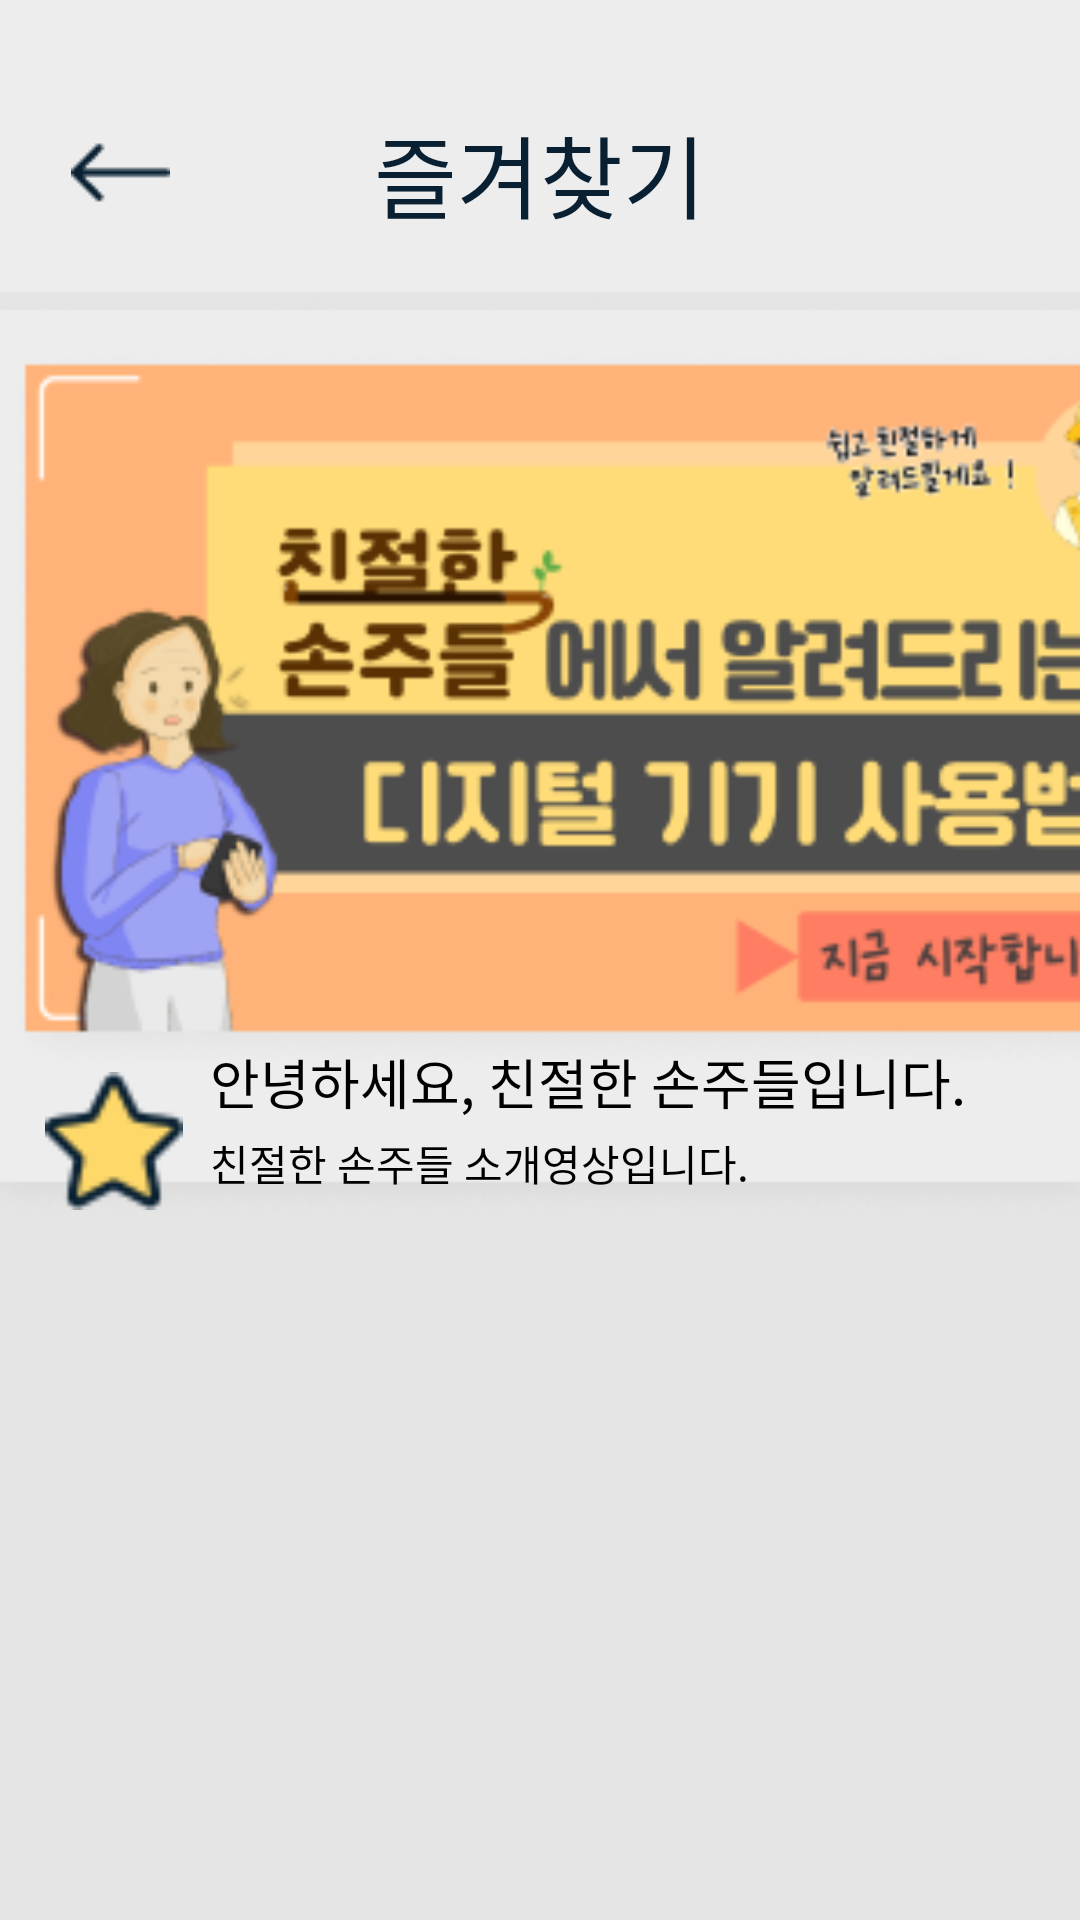

Icon bounding boxes for this 1080px×1920px phone screenshot, format box(x1, y1, x2, y2):
star: box(45, 1072, 183, 1210)
